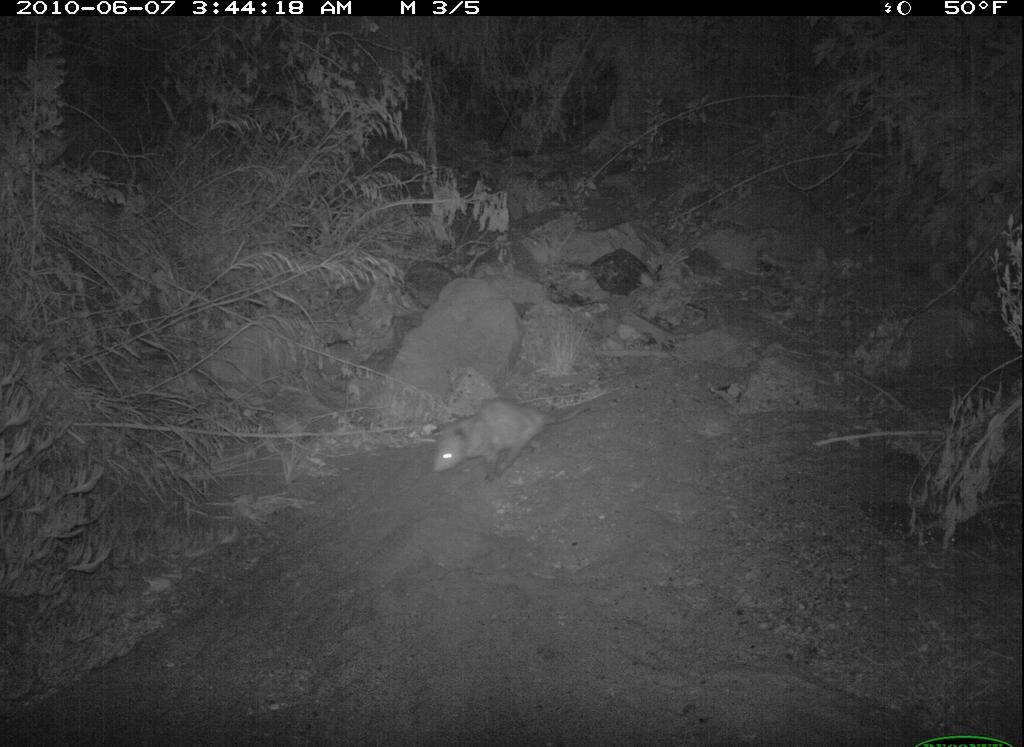opossum: (419, 370, 600, 493)
